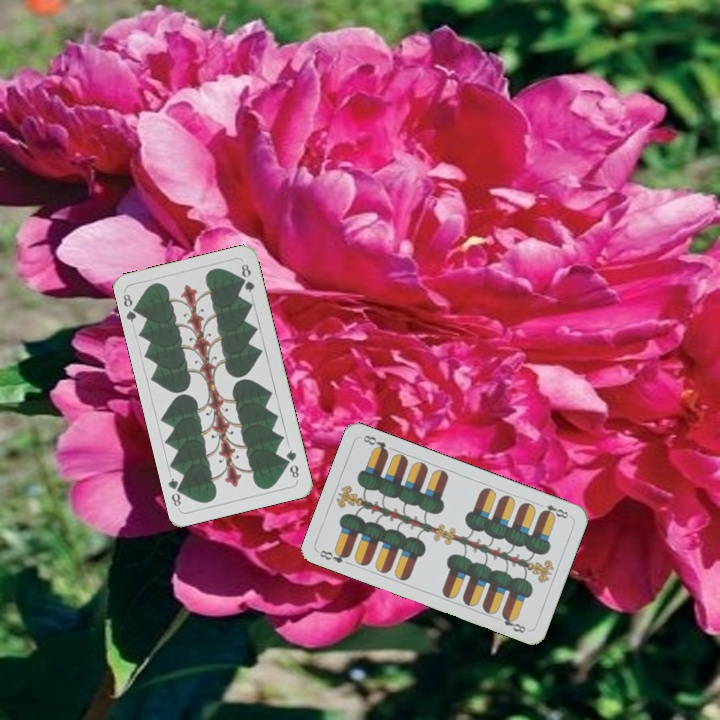E8: (537, 500, 573, 521), (315, 546, 352, 566)
G8: (119, 288, 143, 325), (282, 445, 302, 483)
